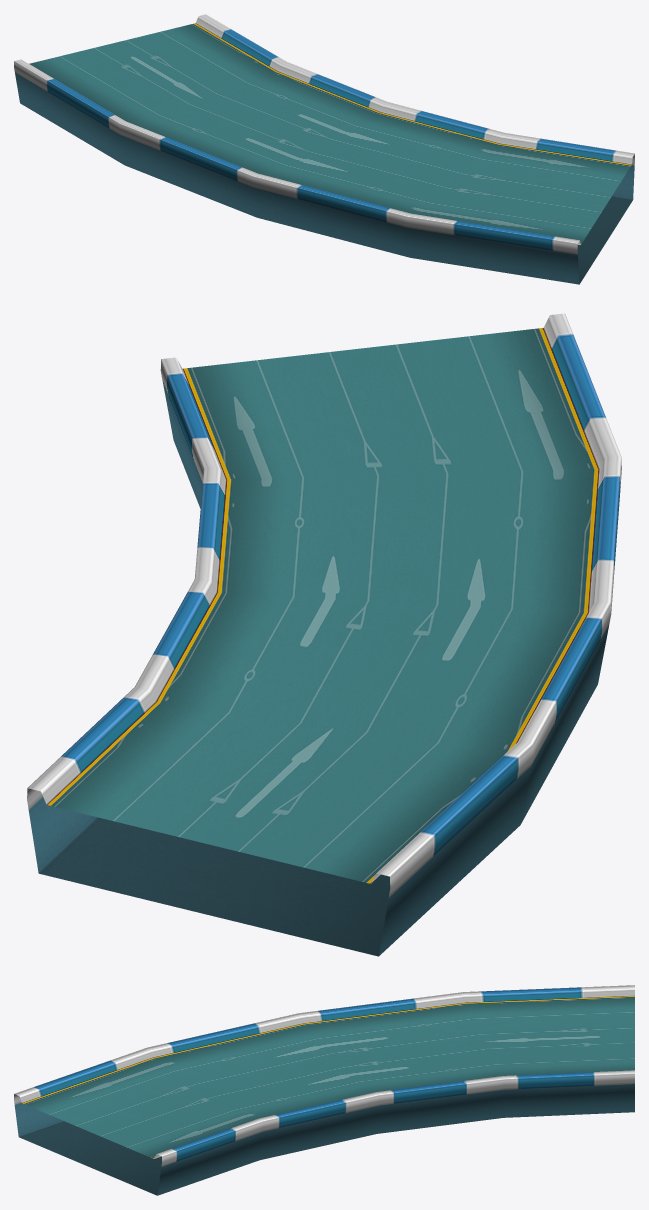
Rendered from lu_wan2.fbx.
3 views of the same model, one above another, from view 1: azimuth 30°, elevation 25°; view 2: azimuth 150°, elevation 25°; view 3: azimuth 270°, elevation 25° (orthographic). The views are drawn at different scales.
Visible parts, largest first — view 1: lu_wan2; view 2: lu_wan2; view 3: lu_wan2.
Part boxes in pixels (left/top/right/bottom): lu_wan2: left=14, top=14, right=634, bottom=284; lu_wan2: left=27, top=313, right=621, bottom=956; lu_wan2: left=14, top=985, right=634, bottom=1195.
Size of the model in its own units: 9474 by 1066 by 14508.
